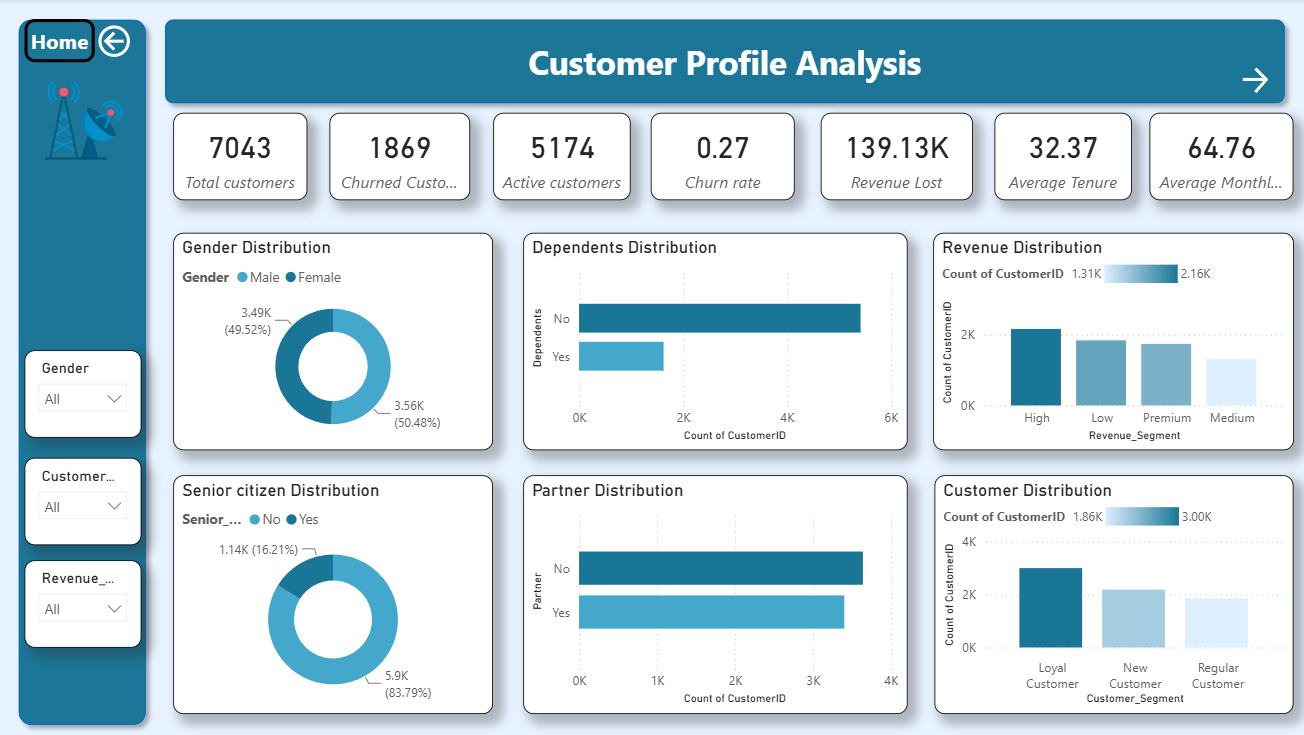

The dashboard page shown, as its layout file describes it:
{"tool":"powerbi","page":{"name":"Customer Profile Analysis","canvas":[1280,720],"ordinal":2},"visuals":[{"type":"card","fields":{"Values":["TELCO.Total customers"]},"box":[171.9,111.6,130.8,85.9],"z":0},{"type":"card","fields":{"Values":["TELCO.Churned Customers"]},"box":[325.8,111.6,137.3,85.9],"z":1000},{"type":"card","fields":{"Values":["TELCO.Active customers"]},"box":[484.9,111.6,134.7,85.9],"z":2000},{"type":"card","fields":{"Values":["TELCO.Churn rate"]},"box":[640.1,111.6,141.1,85.9],"z":3000},{"type":"card","fields":{"Values":["TELCO.Revenue Lost"]},"box":[805.6,111.6,148.8,85.9],"z":4000},{"type":"card","fields":{"Values":["TELCO.Average Tenure"]},"box":[976.2,111.6,134.7,85.9],"z":5000},{"type":"shape","box":[155.2,11.5,1113.5,100.1],"z":6000},{"type":"donutChart","title":"Gender Distribution","fields":{"Y":["CountNonNull(TELCO.CustomerID)"],"Category":["TELCO.Gender"]},"box":[171.9,228.3,313,212.9],"z":7000},{"type":"clusteredColumnChart","title":"Customer Distribution","fields":{"Category":["TELCO.Customer_Segment"],"Y":["CountNonNull(TELCO.CustomerID)"]},"box":[917.2,465.7,351.5,233.5],"z":8000},{"type":"clusteredBarChart","title":"Partner Distribution","fields":{"Category":["TELCO.Partner"],"Y":["CountNonNull(TELCO.CustomerID)"]},"box":[514.4,465.7,375.9,233.5],"z":9000},{"type":"shape","box":[12.8,11.5,142.4,708.1],"z":10000},{"type":"slicer","fields":{"Values":["TELCO.Gender"]},"box":[26.9,343.8,114.2,85.9],"z":11000},{"type":"slicer","fields":{"Values":["TELCO.Customer_Segment"]},"box":[26.9,449,114.2,85.9],"z":12000},{"type":"donutChart","title":"Senior citizen Distribution","fields":{"Y":["CountNonNull(TELCO.CustomerID)"],"Category":["TELCO.Senior_Citizen"]},"box":[171.9,465.7,313,233.5],"z":13000},{"type":"clusteredBarChart","title":"Dependents Distribution","fields":{"Y":["CountNonNull(TELCO.CustomerID)"],"Category":["TELCO.Dependents"]},"box":[514.4,228.3,375.9,212.9],"z":14000},{"type":"clusteredColumnChart","title":"Revenue Distribution","fields":{"Y":["CountNonNull(TELCO.CustomerID)"],"Category":["TELCO.Revenue_Segment"]},"box":[915.9,228.3,352.8,212.9],"z":15000},{"type":"slicer","fields":{"Values":["TELCO.Revenue_Segment"]},"box":[26.9,549,114.2,85.9],"z":16000},{"type":"card","fields":{"Values":["TELCO.Average Monthly Charges"]},"box":[1127.6,111.6,141.1,85.9],"z":17000},{"type":"actionButton","box":[26.4,19.8,68.7,42.3],"z":18000},{"type":"actionButton","box":[93.8,21.1,60.8,41],"z":19000},{"type":"actionButton","box":[1212.6,62.1,67.4,34.4],"z":20000},{"type":"image","box":[46.5,79.5,77,78.3],"z":20001}]}

Visuals, with their boxes in screenshot pixels (x1, y1, x2, y2), scaled from the page's 1280x720 canvas onto the 1304x735 screenshot:
card - TELCO.Total customers: x1=175 y1=114 x2=308 y2=202
card - TELCO.Churned Customers: x1=332 y1=114 x2=472 y2=202
card - TELCO.Active customers: x1=494 y1=114 x2=631 y2=202
card - TELCO.Churn rate: x1=652 y1=114 x2=796 y2=202
card - TELCO.Revenue Lost: x1=821 y1=114 x2=972 y2=202
card - TELCO.Average Tenure: x1=995 y1=114 x2=1132 y2=202
shape: x1=158 y1=12 x2=1292 y2=114
"Gender Distribution" donutChart: x1=175 y1=233 x2=494 y2=450
"Customer Distribution" clusteredColumnChart: x1=934 y1=475 x2=1292 y2=714
"Partner Distribution" clusteredBarChart: x1=524 y1=475 x2=907 y2=714
shape: x1=13 y1=12 x2=158 y2=734
slicer - TELCO.Gender: x1=27 y1=351 x2=144 y2=439
slicer - TELCO.Customer_Segment: x1=27 y1=458 x2=144 y2=546
"Senior citizen Distribution" donutChart: x1=175 y1=475 x2=494 y2=714
"Dependents Distribution" clusteredBarChart: x1=524 y1=233 x2=907 y2=450
"Revenue Distribution" clusteredColumnChart: x1=933 y1=233 x2=1292 y2=450
slicer - TELCO.Revenue_Segment: x1=27 y1=560 x2=144 y2=648
card - TELCO.Average Monthly Charges: x1=1149 y1=114 x2=1292 y2=202
actionButton: x1=27 y1=20 x2=97 y2=63
actionButton: x1=96 y1=22 x2=157 y2=63
actionButton: x1=1235 y1=63 x2=1303 y2=99
image: x1=47 y1=81 x2=126 y2=161
